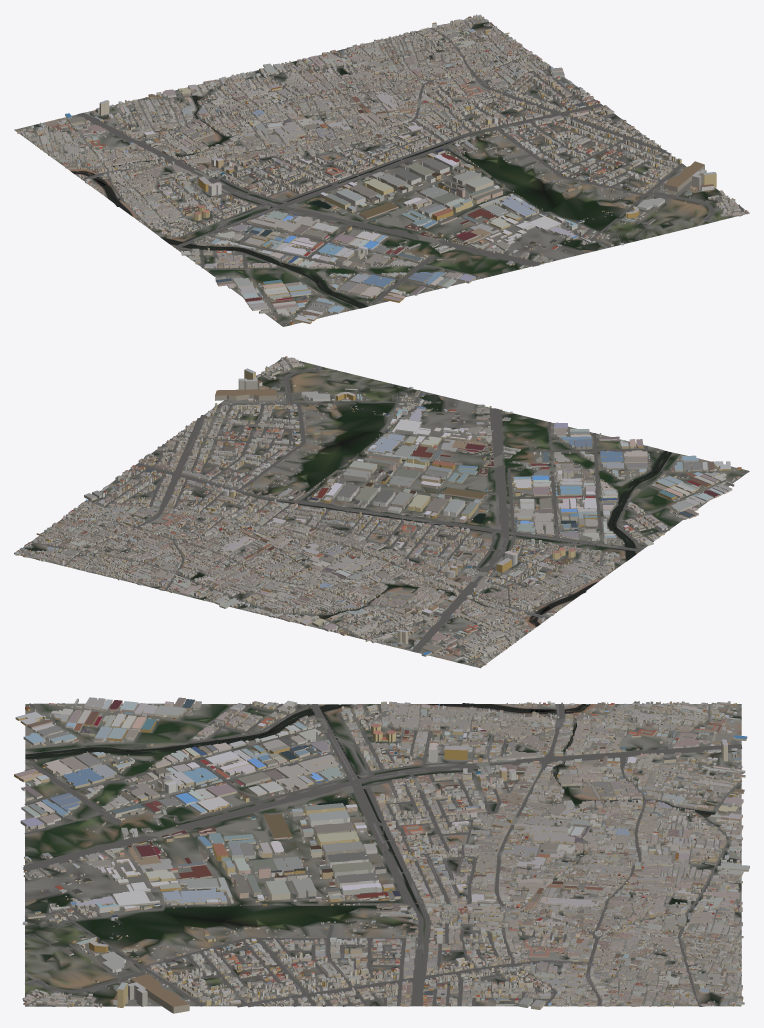
3 views of the same model, one above another, from view 1: azimuth 30°, elevation 25°; view 2: azimuth 150°, elevation 25°; view 3: azimuth 270°, elevation 25° (orthographic). The views are drawn at different scales.
Parts seen in each view (by area): view 1: buildings, ground, roads, water; view 2: buildings, ground, roads, water; view 3: buildings, ground, roads, water.
Boxes of the visible parts, box(x1,y1,x2,y2) form: buildings: box(16, 14, 748, 324); ground: box(14, 17, 749, 326); roads: box(26, 20, 749, 326); water: box(71, 95, 448, 308); buildings: box(14, 356, 744, 666); ground: box(14, 357, 749, 668); roads: box(21, 357, 748, 659); water: box(289, 451, 672, 626); buildings: box(14, 697, 749, 1013); ground: box(25, 703, 741, 1006); roads: box(23, 703, 742, 1007); water: box(25, 703, 714, 907).
Size of the model in its own units: 2906 by 85.15 by 2877.
